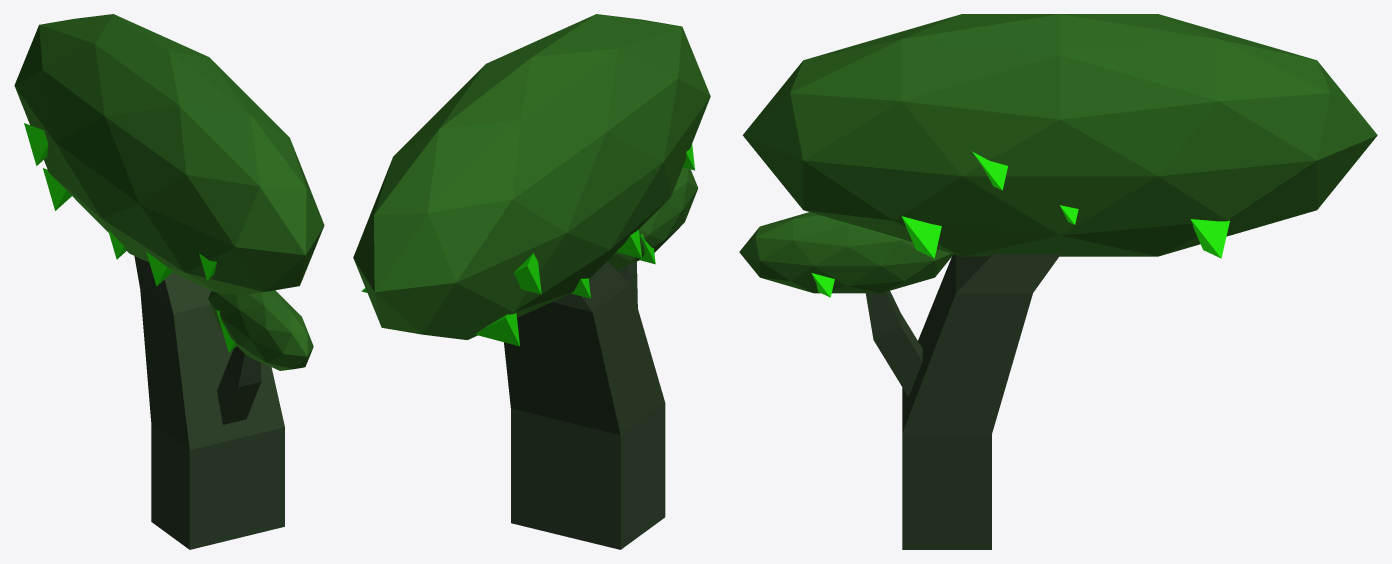
Rendered from イチジク.fbx.
The picture shows the model from 3 angles, left to right: view 1: azimuth 30°, elevation 25°; view 2: azimuth 150°, elevation 25°; view 3: azimuth 270°, elevation 25°; orthographic projection. The views are drawn at different scales.
Parts seen in each view (by area): view 1: ICO球.002, Cube.001, 立方体.006; view 2: ICO球.002, Cube.001, 立方体.006; view 3: ICO球.002, Cube.001, 立方体.006.
Boxes of the visible parts, x1,y1,x2,y2 form: ICO球.002: (14,14,324,370); Cube.001: (134,256,284,549); 立方体.006: (24,123,236,352); ICO球.002: (353,14,710,339); Cube.001: (504,261,665,549); 立方体.006: (361,144,694,346); ICO球.002: (739,14,1377,293); Cube.001: (865,254,1060,549); 立方体.006: (811,151,1229,297).
Bounding box in the file's own units: 211 × 550 × 626.
